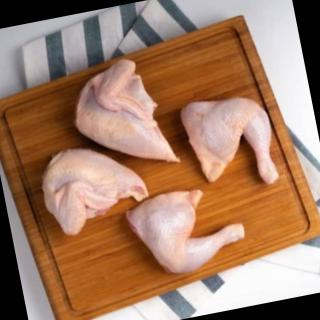Ayam: (63, 50, 184, 183), (122, 179, 253, 285), (34, 134, 156, 241), (177, 87, 284, 201)
